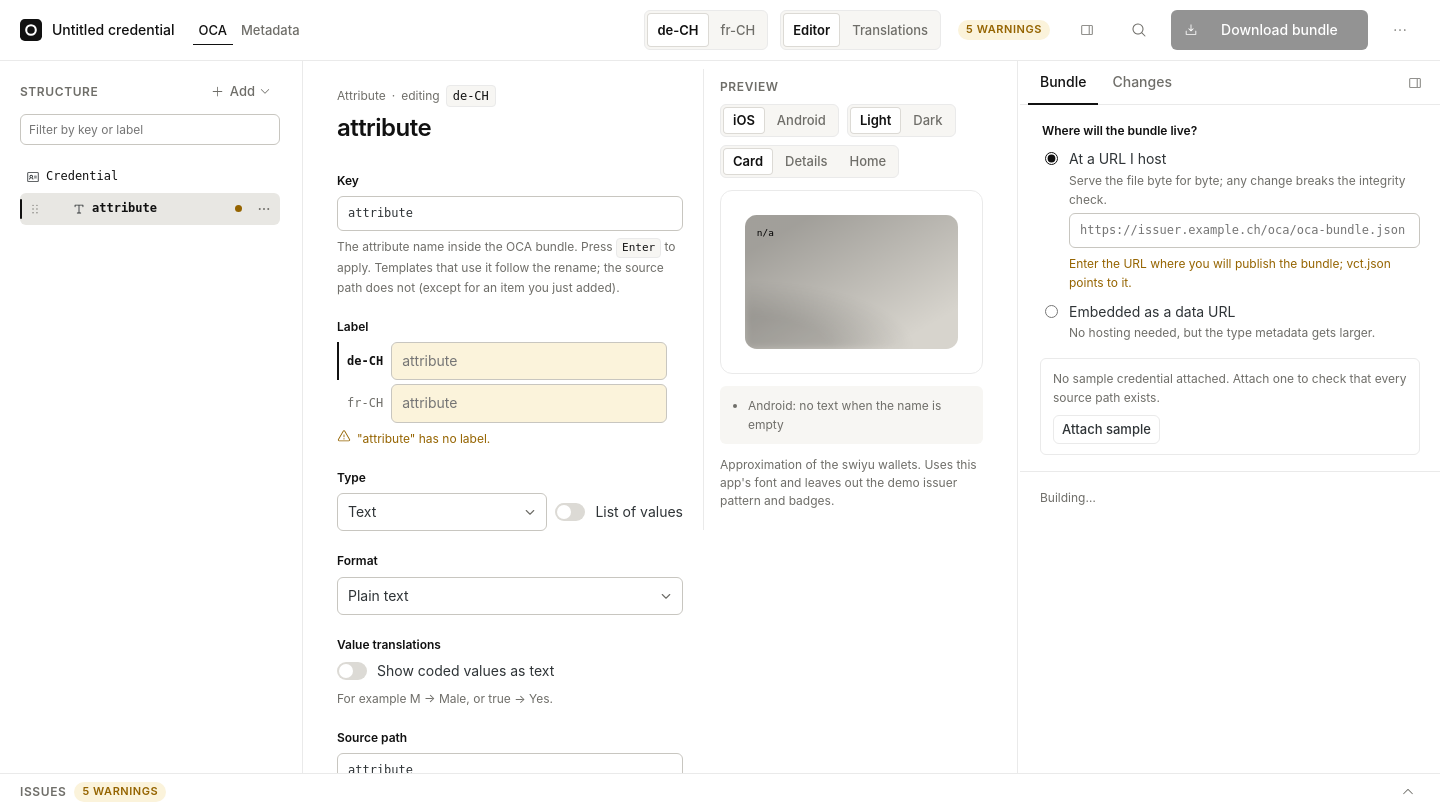
it: I14Y suggestions › commits the typed key on Enter when no suggestion is highlighted
Step 1. Replace the text in the dropdown labelled "Key" with "gesch" → (510, 214), box [337,196,683,231]
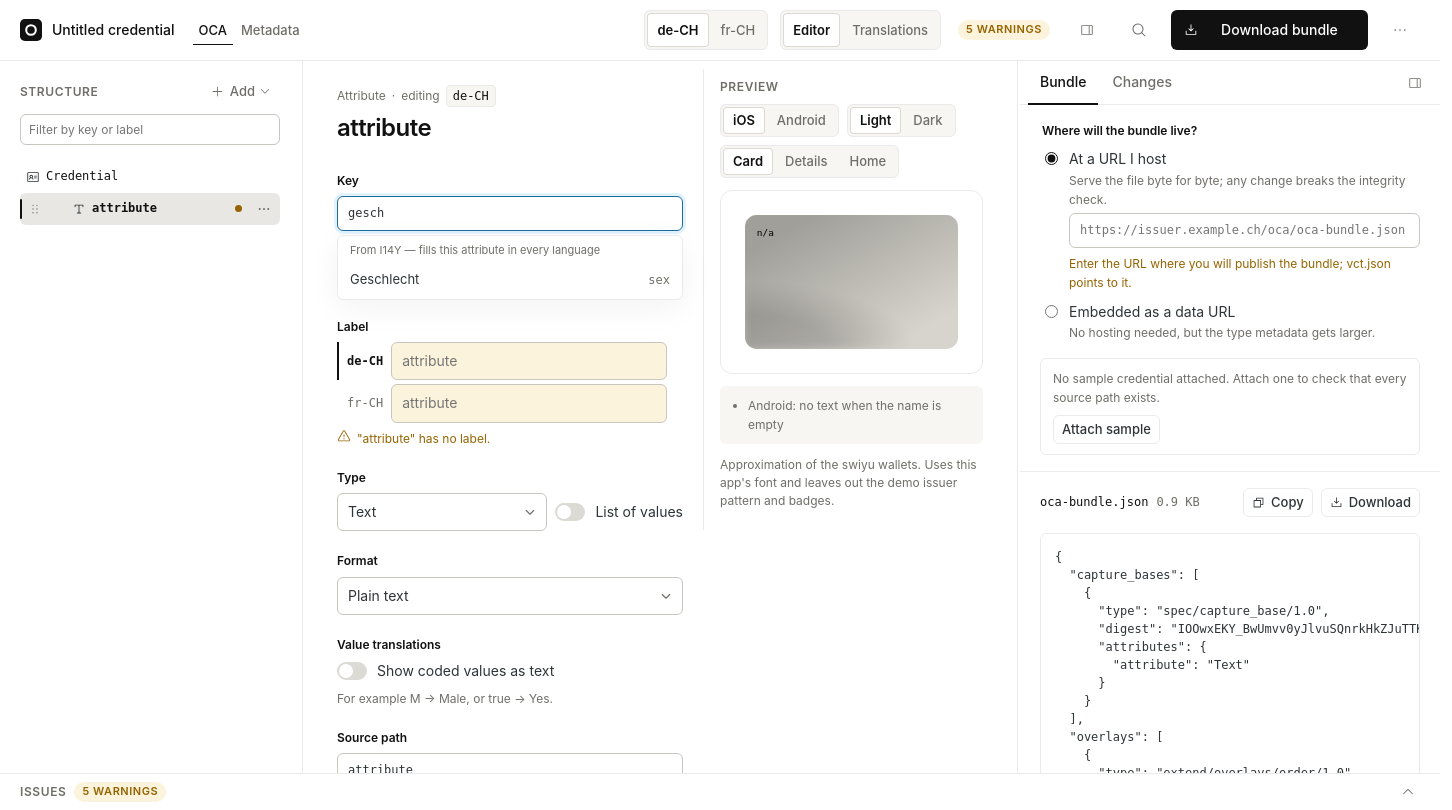
Check: the option "Geschlecht sex" is shown, box [350,271,670,287]
Step 2. Press Enter
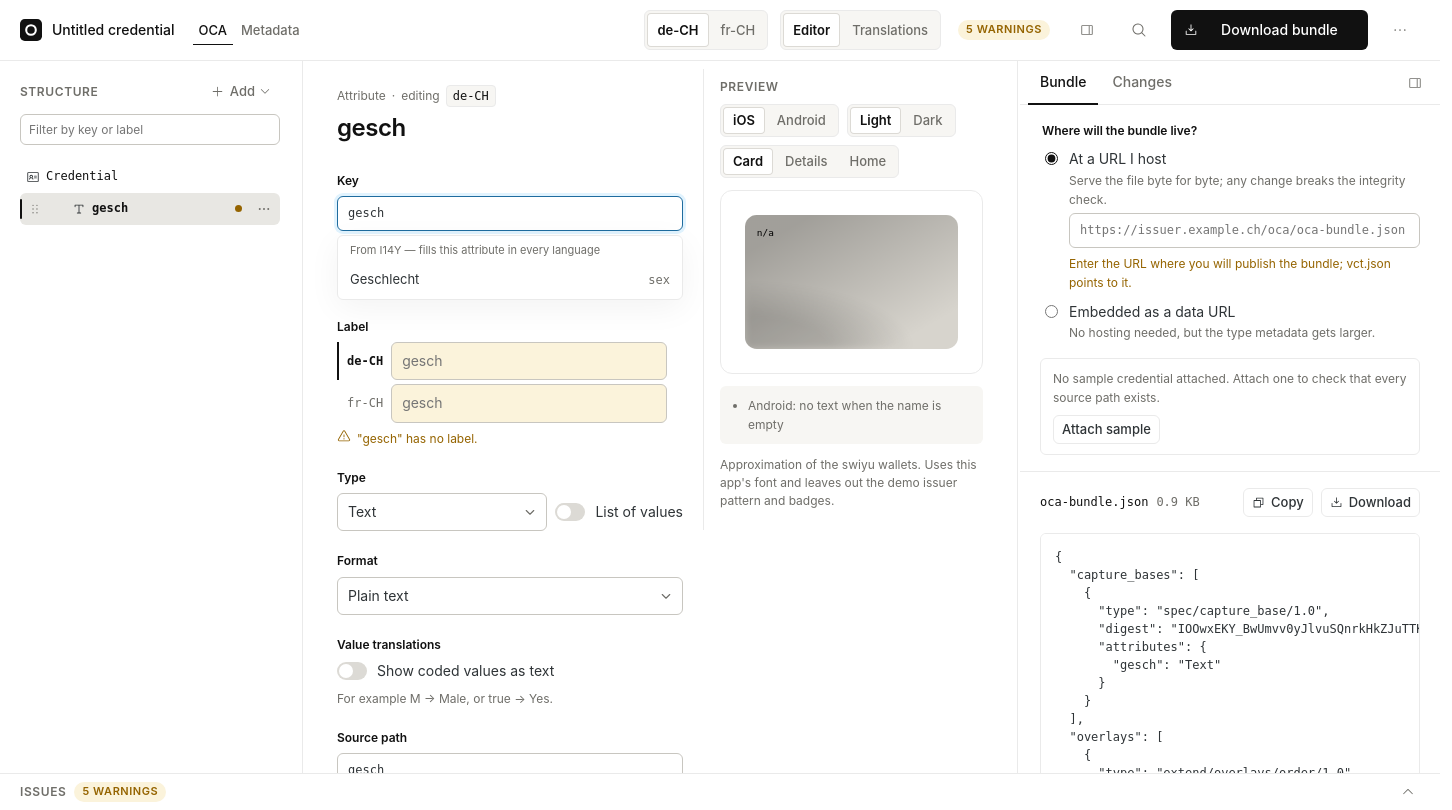
Check: the text "gesch" is shown, box [92,199,128,219]
